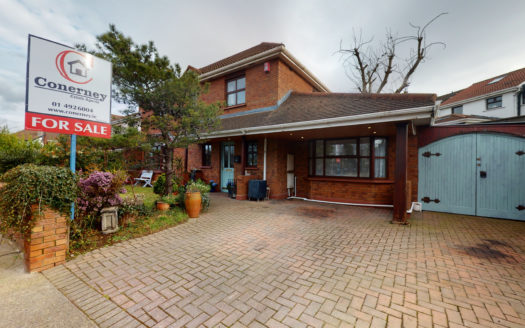property sign: (16, 27, 123, 148)
